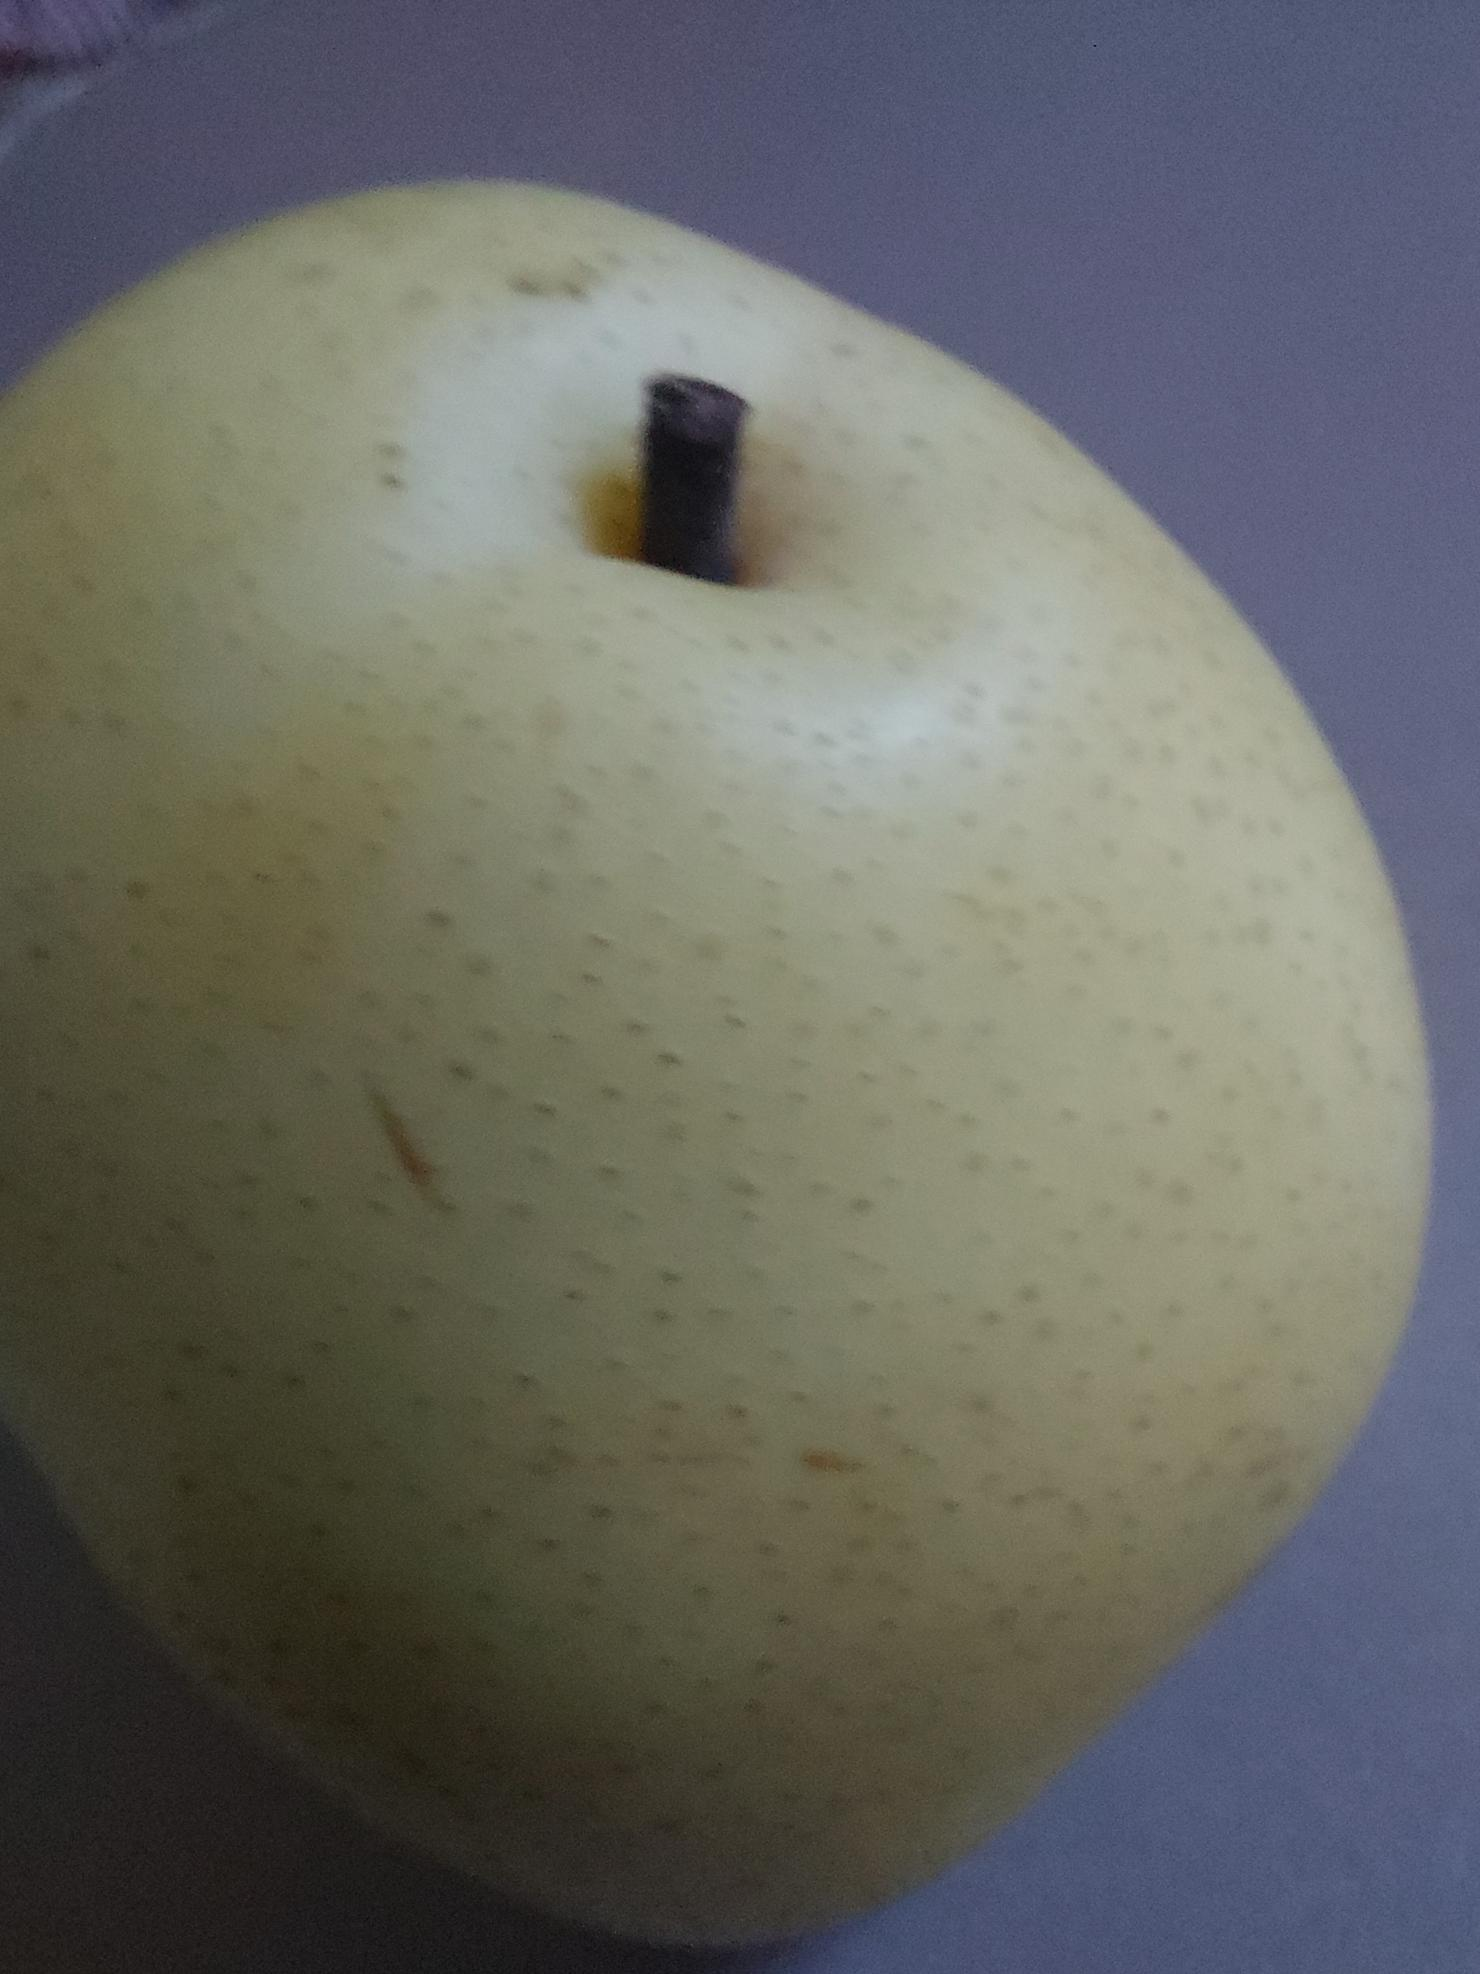Good Pear: (0, 166, 1450, 1960)
